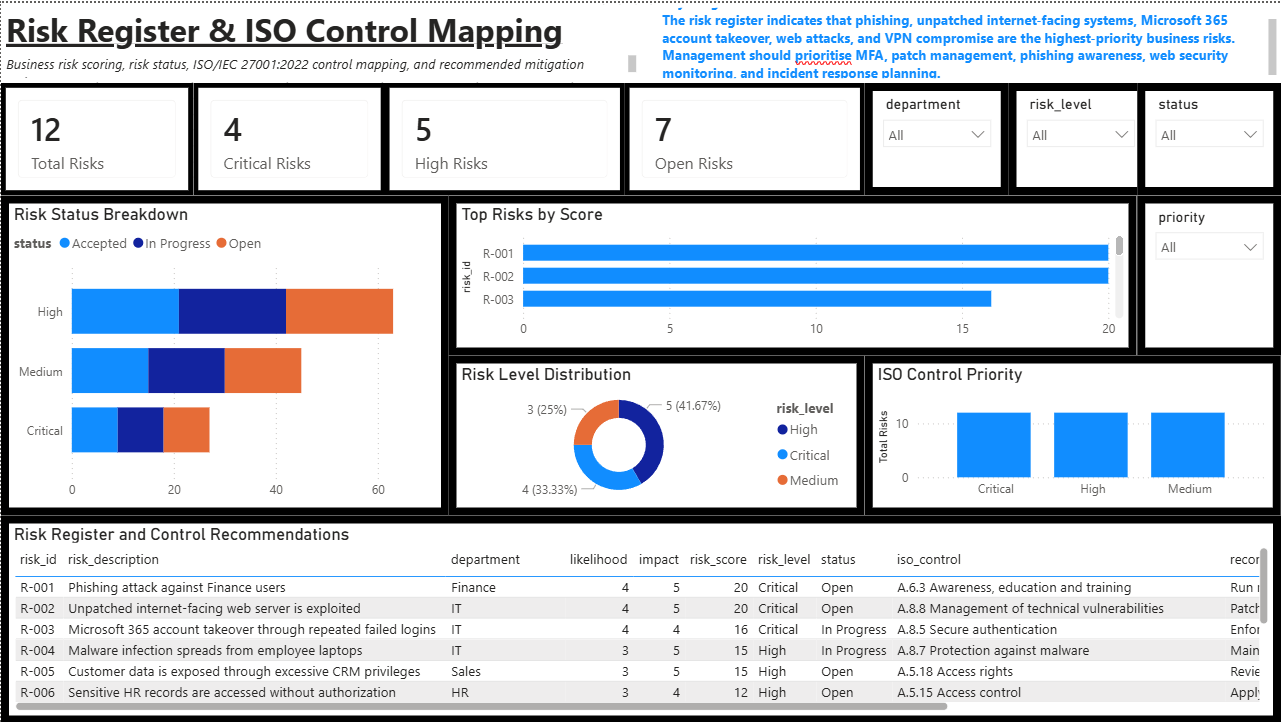

Layout of this report page (visuals, bound fields, positions):
{"tool":"powerbi","page":{"name":"Risk Register & Controls","canvas":[1280,720],"ordinal":4},"visuals":[{"type":"textbox","box":[0,0,592,64],"z":0},{"type":"textbox","box":[0,48,640,32],"z":1000},{"type":"cardVisual","fields":{"Data":["RiskRegister.Total Risks"]},"box":[0,80,192,112],"z":2000},{"type":"cardVisual","fields":{"Data":["RiskRegister.Critical Risks"]},"box":[192,80,192,112],"z":3000},{"type":"cardVisual","fields":{"Data":["RiskRegister.High Risks"]},"box":[384,80,240,112],"z":4000},{"type":"cardVisual","fields":{"Data":["RiskRegister.Open Risks"]},"box":[624,80,240,112],"z":5000},{"type":"textbox","box":[656,0,624,80],"z":6000},{"type":"slicer","fields":{"Values":["RiskRegister.risk_level"]},"box":[1008,80,144,112],"z":7000},{"type":"slicer","fields":{"Values":["RiskRegister.department"]},"box":[864,80,144,112],"z":8000},{"type":"slicer","fields":{"Values":["RiskRegister.status"]},"box":[1136,80,144,112],"z":9000},{"type":"barChart","title":"Risk Status Breakdown","fields":{"Category":["Vulnerabilities.severity"],"Y":["Vulnerabilities.Total Vulnerabilities"],"Series":["RiskRegister.status"]},"box":[0,192,448,320],"z":10000},{"type":"donutChart","title":"Risk Level Distribution","fields":{"Category":["RiskRegister.risk_level"],"Y":["RiskRegister.Total Risks"]},"box":[448,352,416,160],"z":11000},{"type":"barChart","title":"Top Risks by Score","fields":{"Category":["RiskRegister.risk_id"],"Y":["Sum(RiskRegister.risk_score)"]},"box":[448,192,688,160],"z":12000},{"type":"clusteredColumnChart","title":"ISO Control Priority","fields":{"Category":["ControlMapping.priority"],"Y":["RiskRegister.Total Risks"]},"box":[864,352,416,160],"z":13000},{"type":"tableEx","title":"Risk Register and Control Recommendations","fields":{"Values":["RiskRegister.risk_id","RiskRegister.risk_description","RiskRegister.department","RiskRegister.likelihood","RiskRegister.impact","RiskRegister.risk_score","RiskRegister.risk_level","RiskRegister.status","ControlMapping.iso_control","ControlMapping.recommendation","ControlMapping.priority"]},"box":[0,512,1280,208],"z":14000},{"type":"slicer","title":"Internet-Facing High-Risk Vulnerabilities","fields":{"Values":["ControlMapping.priority"]},"box":[1136,192,144,160],"z":15000}]}

Visuals, with their boxes in screenshot pixels (x1, y1, x2, y2), scaled from the page's 1280x720 canvas onto the 1281x722 screenshot:
textbox: pyautogui.locateOnScreen(0, 0, 592, 64)
textbox: pyautogui.locateOnScreen(0, 48, 640, 80)
cardVisual - RiskRegister.Total Risks: pyautogui.locateOnScreen(0, 80, 192, 193)
cardVisual - RiskRegister.Critical Risks: pyautogui.locateOnScreen(192, 80, 384, 193)
cardVisual - RiskRegister.High Risks: pyautogui.locateOnScreen(384, 80, 624, 193)
cardVisual - RiskRegister.Open Risks: pyautogui.locateOnScreen(624, 80, 865, 193)
textbox: pyautogui.locateOnScreen(657, 0, 1280, 80)
slicer - RiskRegister.risk_level: pyautogui.locateOnScreen(1009, 80, 1153, 193)
slicer - RiskRegister.department: pyautogui.locateOnScreen(865, 80, 1009, 193)
slicer - RiskRegister.status: pyautogui.locateOnScreen(1137, 80, 1280, 193)
"Risk Status Breakdown" barChart: pyautogui.locateOnScreen(0, 193, 448, 513)
"Risk Level Distribution" donutChart: pyautogui.locateOnScreen(448, 353, 865, 513)
"Top Risks by Score" barChart: pyautogui.locateOnScreen(448, 193, 1137, 353)
"ISO Control Priority" clusteredColumnChart: pyautogui.locateOnScreen(865, 353, 1280, 513)
"Risk Register and Control Recommendations" tableEx: pyautogui.locateOnScreen(0, 513, 1280, 721)
"Internet-Facing High-Risk Vulnerabilities" slicer: pyautogui.locateOnScreen(1137, 193, 1280, 353)
